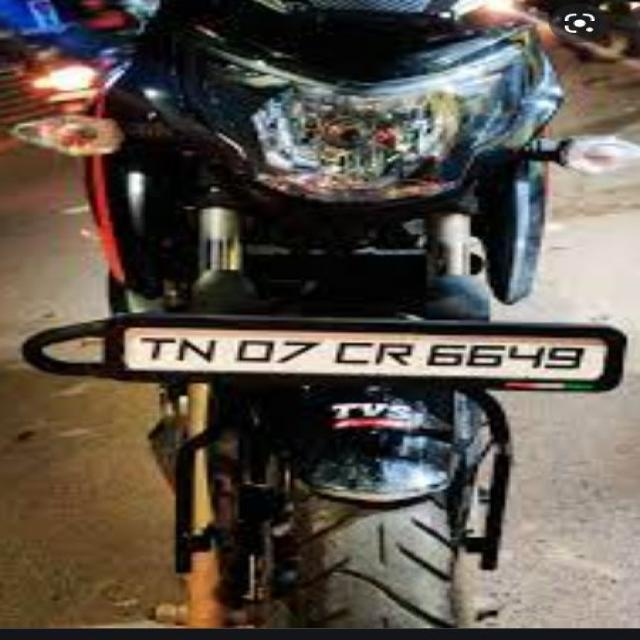license_plate: (112, 317, 624, 388)
